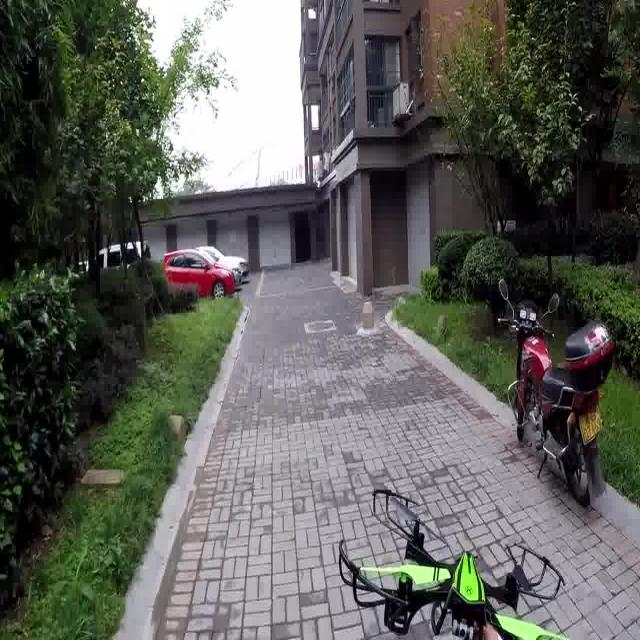Drone_FW: (335, 486, 571, 640)
